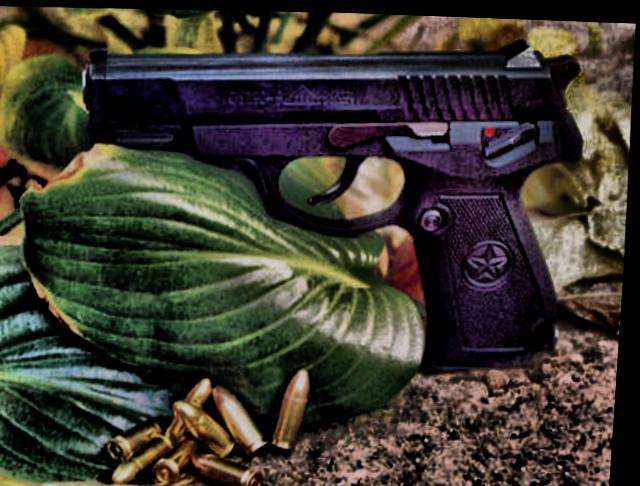pistol: (66, 19, 593, 378)
